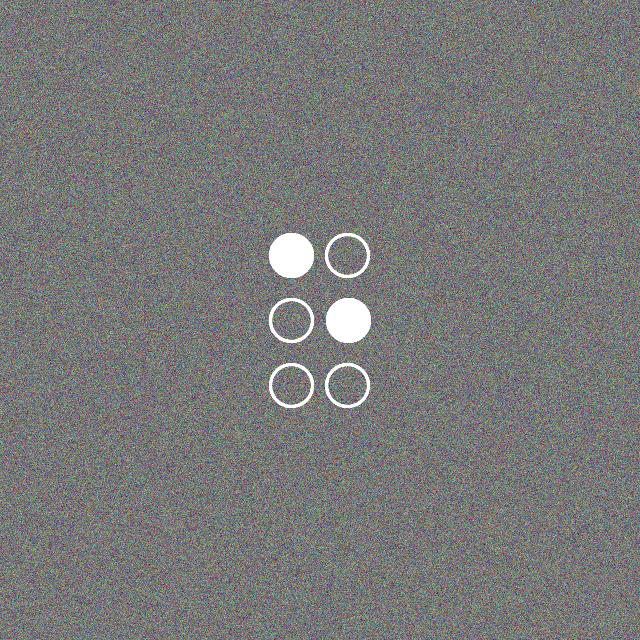E: (263, 225, 374, 415)
